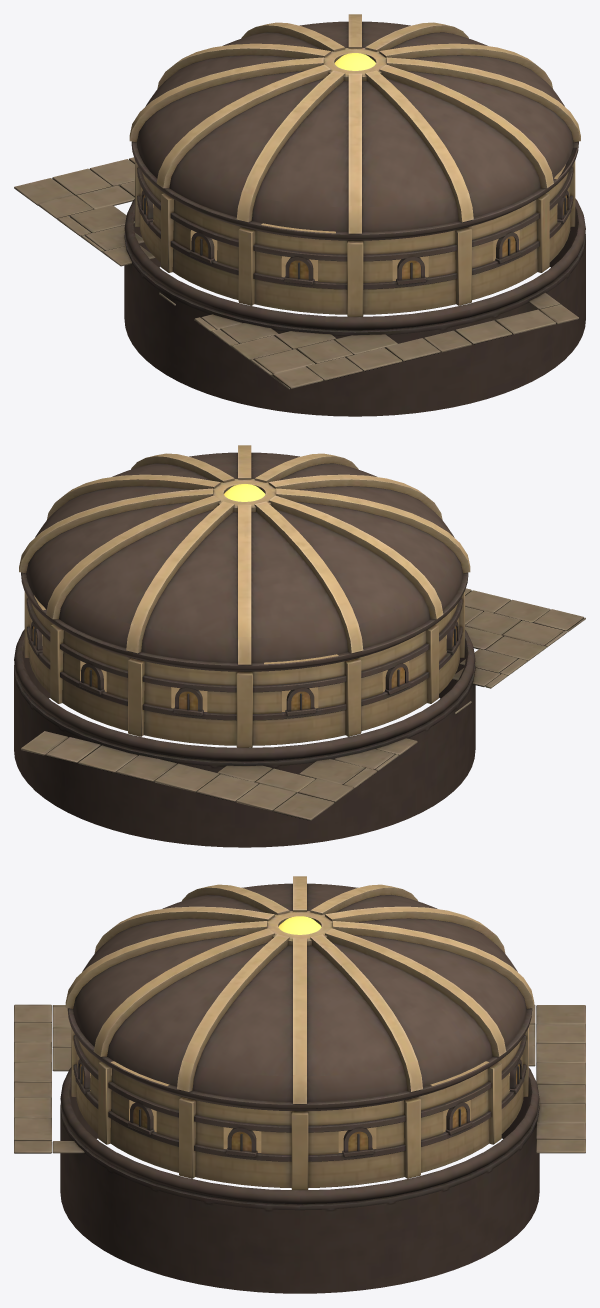
File: lamp_dome.glb
3 renders of one model, top to bottom at view 1: azimuth 30°, elevation 25°; view 2: azimuth 150°, elevation 25°; view 3: azimuth 270°, elevation 25°, orthographic. The views are drawn at different scales.
Parts seen in each view (by area): view 1: lamp_dome_body, lamp_dome_lamp; view 2: lamp_dome_body, lamp_dome_lamp; view 3: lamp_dome_body, lamp_dome_lamp.
Boxes of the visible parts, x1,y1,x2,y2 form: lamp_dome_body: [14, 14, 585, 416]; lamp_dome_lamp: [334, 53, 375, 70]; lamp_dome_body: [14, 445, 585, 847]; lamp_dome_lamp: [224, 484, 265, 501]; lamp_dome_body: [14, 876, 585, 1293]; lamp_dome_lamp: [278, 916, 321, 934].
Size of the model in its own units: 18.58 by 11.51 by 21.97.
Materials: 2 (1 with a texture image).
